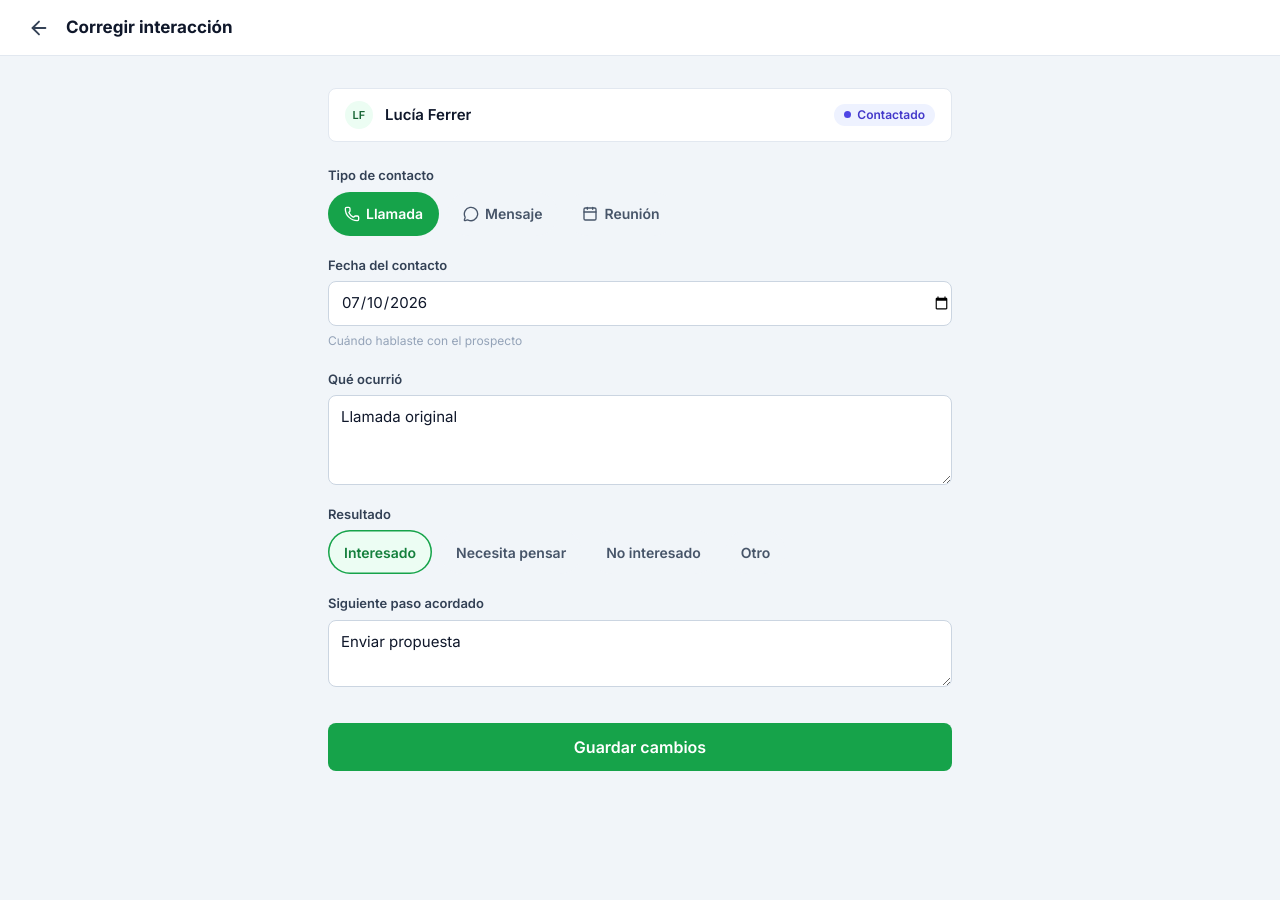
Test: guardado (JOS-80 Trozo B) › error de red: banner claro y sin navegar
Replace the text in the text box labelled "Qué ocurrió" with "Otro" at point(640, 440), box [328,395,952,484]
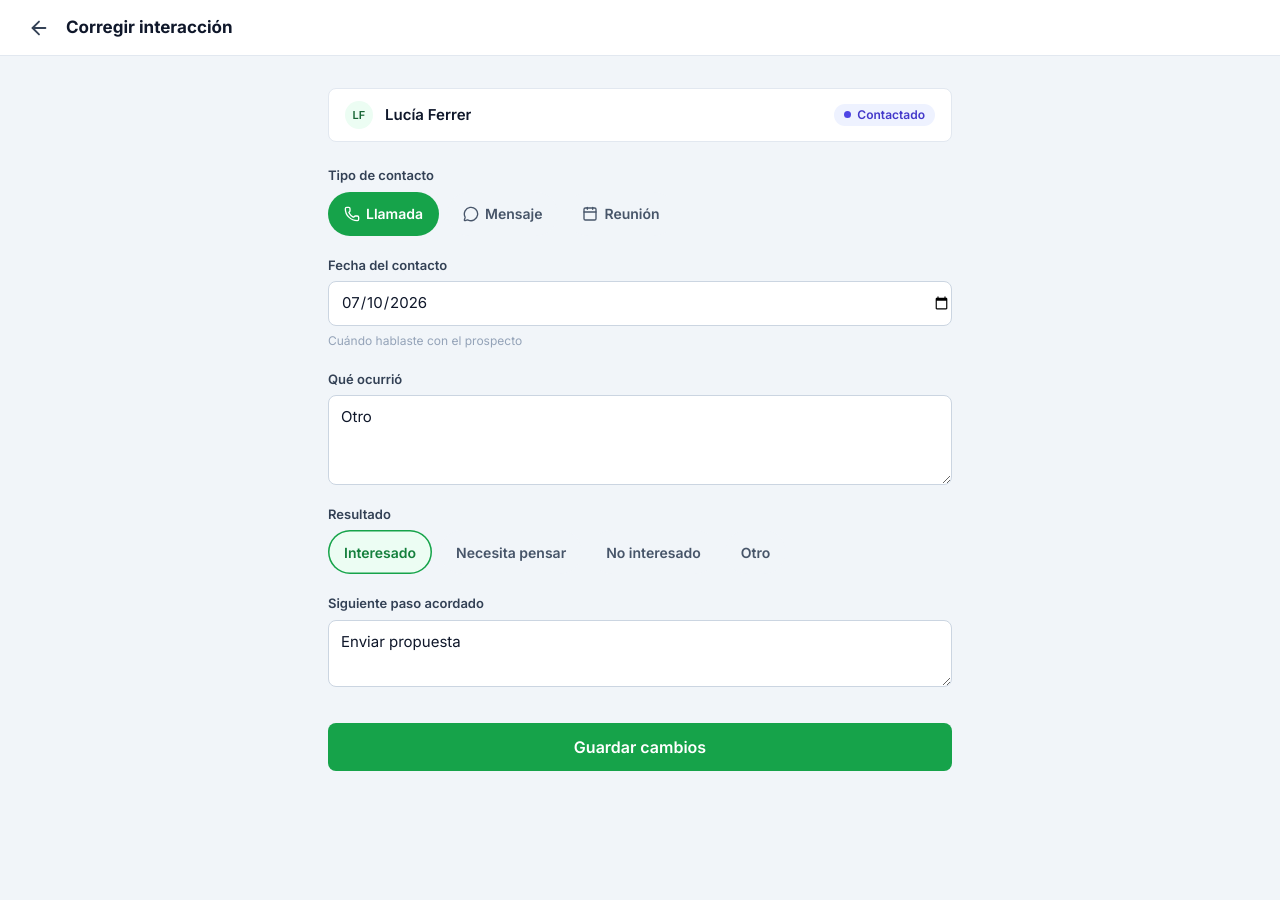
Submit the form, box [304,56,976,786]
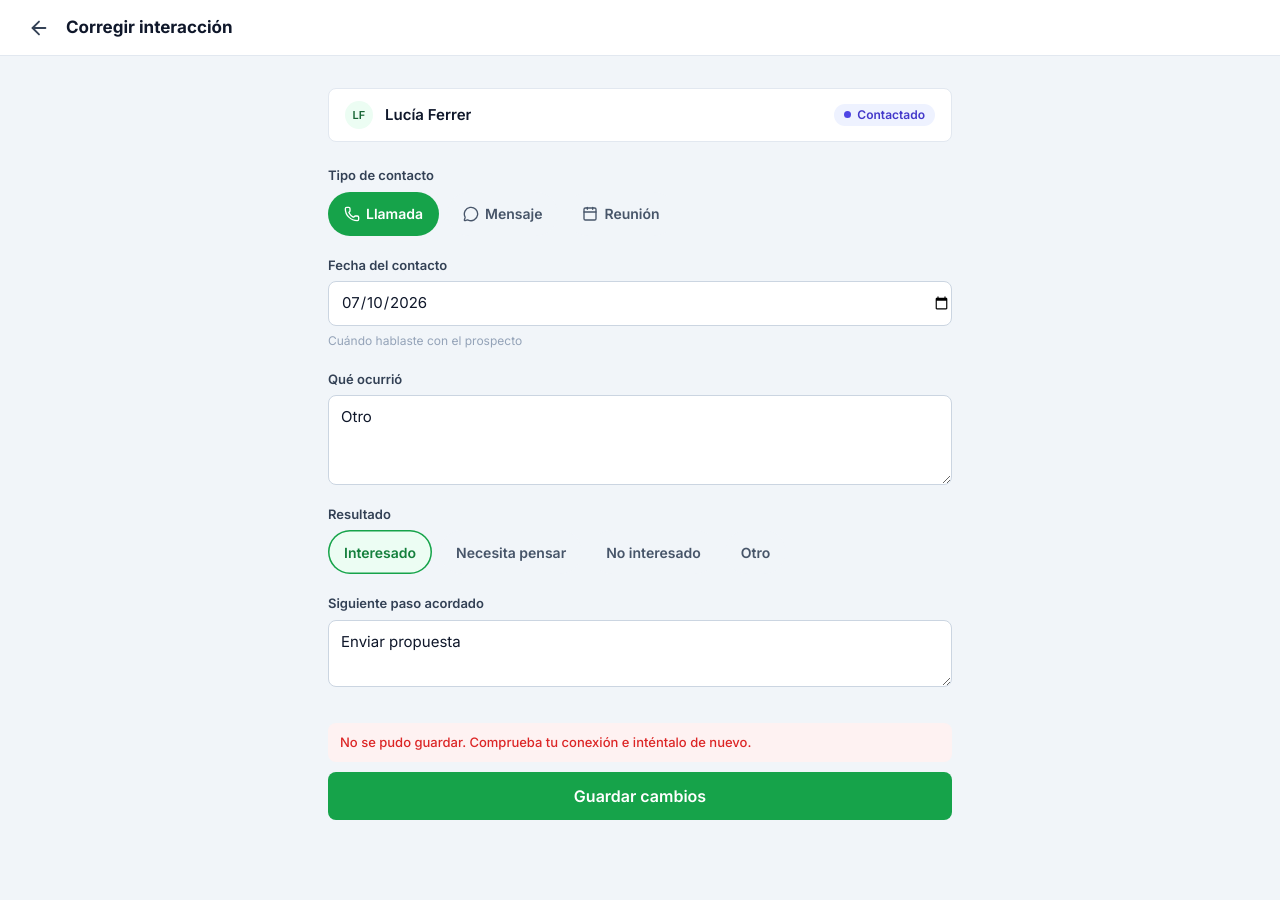
Expected: the message reads "No se pudo guardar. Comprueba tu conexión e inténtalo de nuevo.", [340,734,751,750]
